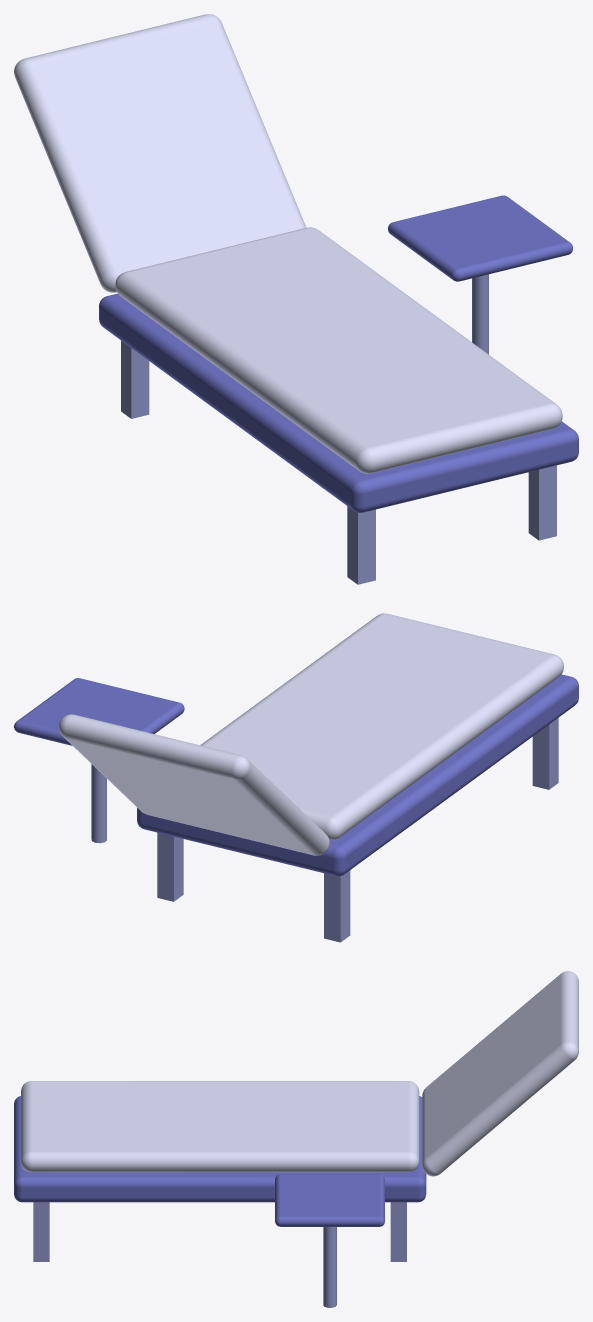
The model's file is lounger.glb.
3 renders of one model, top to bottom at view 1: azimuth 30°, elevation 25°; view 2: azimuth 150°, elevation 25°; view 3: azimuth 270°, elevation 25°, orthographic. The views are drawn at different scales.
Parts seen in each view (by area): view 1: cushion, backCushion, frame, sideTable, lounger; view 2: cushion, backCushion, frame, lounger, sideTable; view 3: cushion, backCushion, frame, sideTable, lounger.
Part boxes in pixels (x1,y1,x2,y2): cushion: [115, 227, 562, 473]; backCushion: [14, 14, 306, 292]; frame: [99, 293, 578, 512]; sideTable: [388, 195, 572, 281]; lounger: [121, 274, 556, 584]; cushion: [200, 613, 563, 840]; backCushion: [58, 714, 329, 855]; frame: [137, 674, 578, 876]; lounger: [91, 718, 558, 942]; sideTable: [14, 678, 184, 745]; cushion: [21, 1081, 419, 1172]; backCushion: [422, 971, 578, 1176]; frame: [14, 1096, 426, 1202]; sideTable: [275, 1174, 384, 1226]; lounger: [33, 1202, 406, 1307].
Bounding box in the file's own units: 1.28 × 0.8705 × 2.06.
